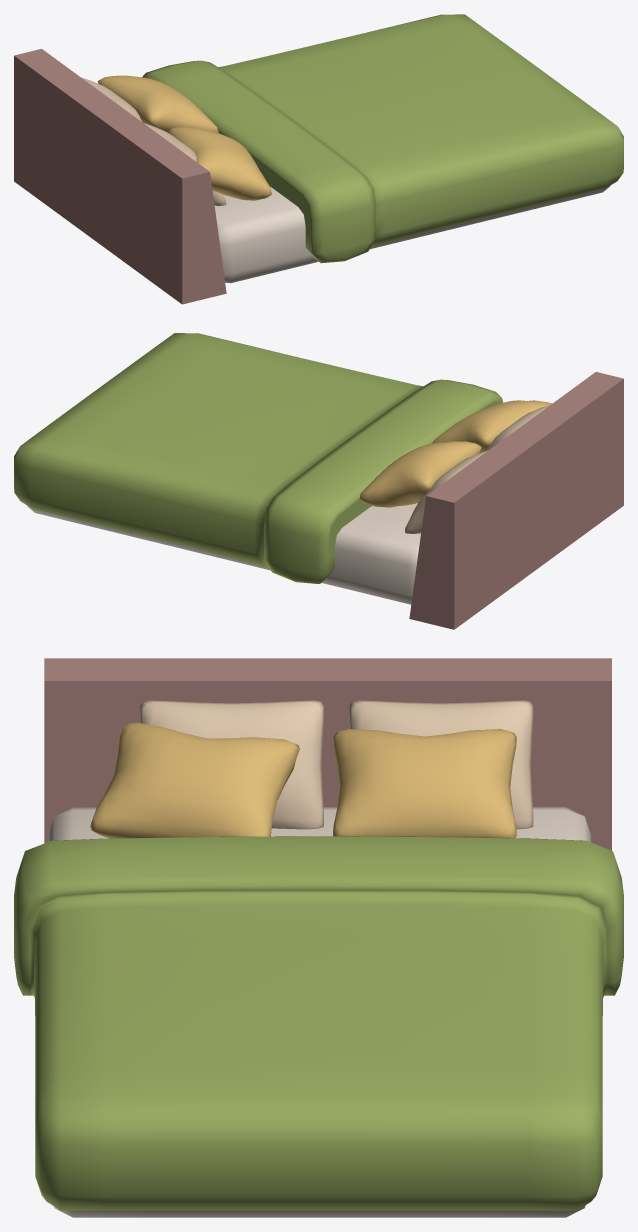
File: double-bed-transformed.glb
3 views of the same model, one above another, from view 1: azimuth 30°, elevation 25°; view 2: azimuth 150°, elevation 25°; view 3: azimuth 270°, elevation 25° (orthographic). The views are drawn at different scales.
Parts seen in each view (by area): view 1: Cube 64.001, Cube 65.001, Cube 63.006, Cube 70, Cube 69, Cube 68, Cube 67; view 2: Cube 64.001, Cube 65.001, Cube 63.006, Cube 69, Cube 70, Cube 67, Cube 68; view 3: Cube 64.001, Cube 65.001, Cube 69, Cube 70, Cube 68, Cube 63.006, Cube 67.
Part boxes in pixels (x1,y1,x2,y2): Cube 64.001: [142, 14, 623, 263]; Cube 65.001: [14, 49, 226, 304]; Cube 63.006: [214, 186, 609, 283]; Cube 70: [168, 126, 271, 200]; Cube 69: [98, 75, 218, 133]; Cube 68: [143, 123, 226, 205]; Cube 67: [81, 77, 141, 121]; Cube 64.001: [14, 333, 502, 583]; Cube 65.001: [409, 372, 623, 629]; Cube 63.006: [27, 503, 420, 604]; Cube 69: [359, 441, 481, 507]; Cube 70: [432, 400, 552, 452]; Cube 67: [405, 450, 488, 533]; Cube 68: [484, 404, 550, 451]; Cube 64.001: [14, 836, 623, 1210]; Cube 65.001: [44, 658, 611, 850]; Cube 69: [333, 729, 516, 838]; Cube 70: [90, 722, 299, 838]; Cube 68: [139, 700, 323, 829]; Cube 63.006: [48, 807, 590, 1217]; Cube 67: [349, 700, 533, 829].
Bounding box in the file's own units: 4.47 × 1.2 × 3.14.
